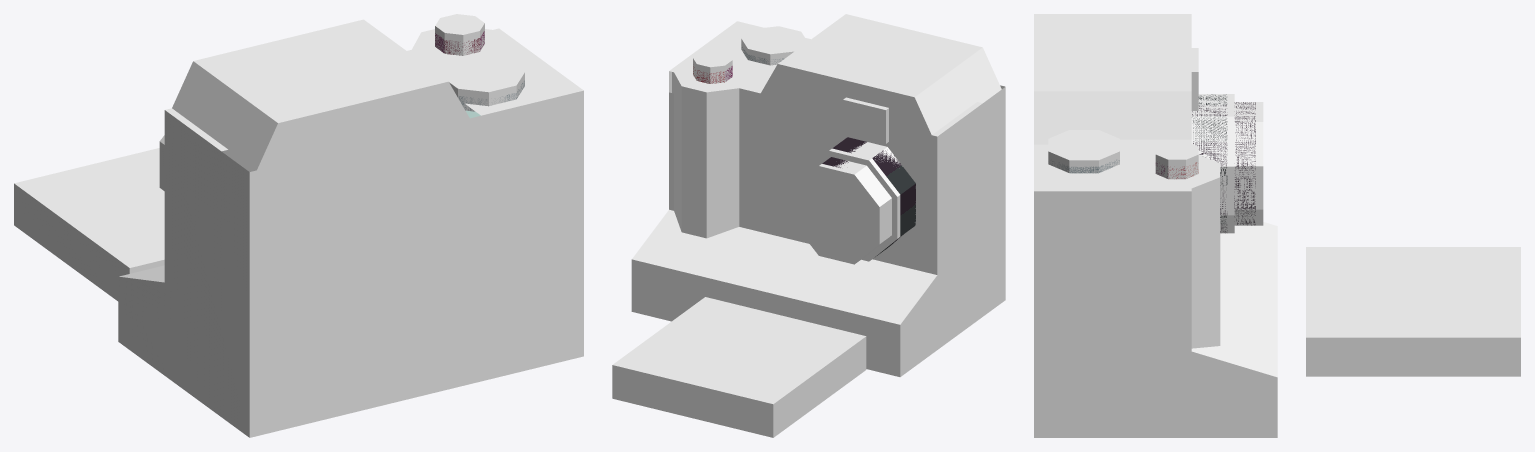
The model's file is camera.fbx.
3 views of the same model, side by side, from view 1: azimuth 30°, elevation 25°; view 2: azimuth 150°, elevation 25°; view 3: azimuth 270°, elevation 25° (orthographic). The views are drawn at different scales.
Parts seen in each view (by area): view 1: cam body_1, top_1, polaroid border, cam base_1, opt_1, button_1; view 2: cam body_1, cam base_1, polaroid border, top_1, curve_1, lens_1, lens acc_1, opt_1, lens acc, view glass_1, button_1; view 3: cam body_1, polaroid border, top_1, cam base_1, curve_1, lens acc_1, lens_1, opt_1, button_1, lens acc, lens, view glass_1.
Boxes of the visible parts, x1,y1,x2,y2 form: cam body_1: (164,28,583,437); top_1: (172,19,476,185); polaroid border: (14,148,164,301); cam base_1: (118,265,172,381); opt_1: (442,57,524,111); button_1: (435,14,484,55); cam body_1: (669,21,1005,349); cam base_1: (631,209,943,376); polaroid border: (612,297,866,437); top_1: (755,14,1001,147); curve_1: (672,69,746,238); lens_1: (793,160,891,264); lens acc_1: (800,142,915,261); opt_1: (741,26,807,65); lens acc: (832,137,915,256); view glass_1: (843,97,888,143); button_1: (693,50,732,83); cam body_1: (1034,139,1191,437); polaroid border: (1306,247,1520,376); top_1: (1034,14,1191,144); cam base_1: (1177,222,1277,437); curve_1: (1184,155,1220,348); lens acc_1: (1191,94,1234,233); lens_1: (1234,102,1263,225); opt_1: (1048,130,1119,173); button_1: (1155,141,1198,179); lens acc: (1192,94,1227,233); lens: (1234,102,1255,225); view glass_1: (1191,48,1198,110).
Bounding box in the file's own units: 78.12 × 68.75 × 106.
2 materials, 2 textured.
